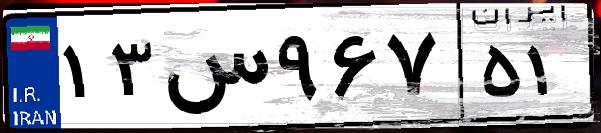1: (57, 26, 110, 100), (525, 38, 570, 115)
3: (110, 28, 158, 98)
5: (475, 38, 525, 113)
6: (330, 28, 385, 110)
7: (385, 28, 445, 110)
9: (270, 28, 330, 110)
س: (158, 20, 270, 120)
